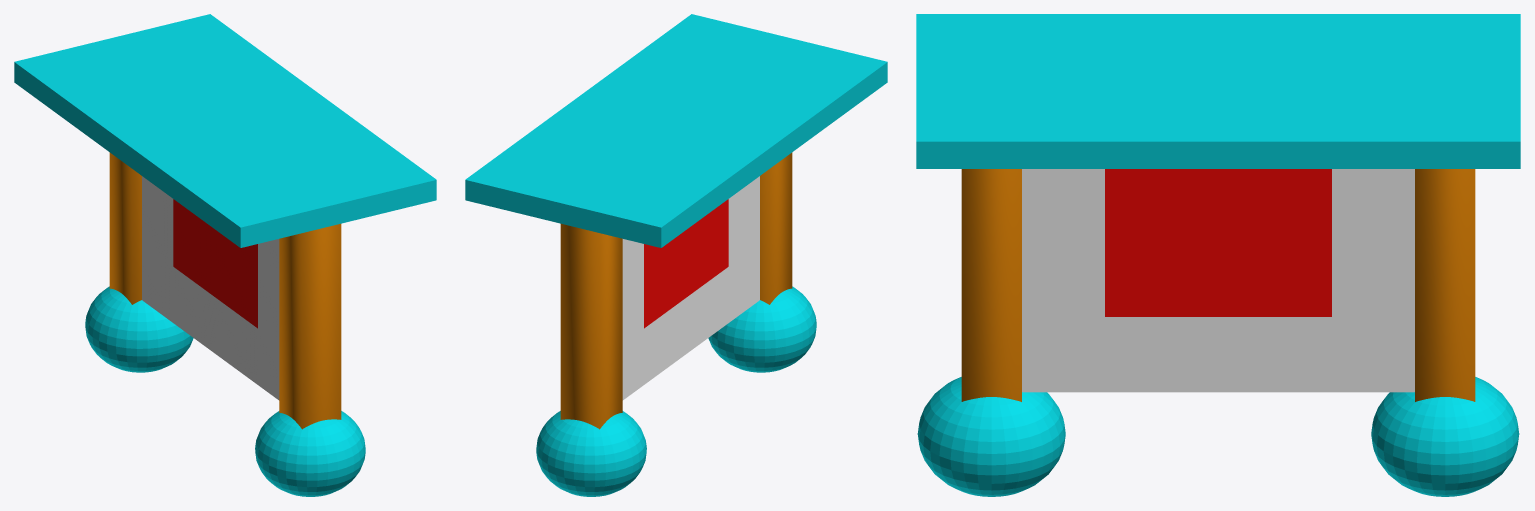
The model's file is obs-2.fbx.
3 renders of one model, left to right at view 1: azimuth 30°, elevation 25°; view 2: azimuth 150°, elevation 25°; view 3: azimuth 270°, elevation 25°, orthographic. The views are drawn at different scales.
Visible parts, largest first — view 1: Cube, bo, Cube.002, Sphere R, Sphere l, Cube.001; view 2: Cube, bo, Cube.001, Sphere l, Sphere R, Cube.002; view 3: Cube, bo, Cube.001, Cube.002, Sphere l, Sphere R.
Part boxes in pixels (box(x1,y1,x2,y2)): Cube: box(14, 14, 436, 247); bo: box(142, 176, 279, 400); Cube.002: box(279, 223, 341, 429); Sphere R: box(255, 411, 365, 496); Sphere l: box(85, 286, 193, 372); Cube.001: box(109, 152, 141, 304); Cube: box(465, 14, 887, 247); bo: box(622, 176, 759, 400); Cube.001: box(560, 223, 622, 429); Sphere l: box(536, 411, 646, 496); Sphere R: box(708, 286, 816, 372); Cube.002: box(760, 152, 792, 304); Cube: box(916, 14, 1520, 168); bo: box(1022, 169, 1414, 392); Cube.001: box(1415, 169, 1475, 401); Cube.002: box(961, 169, 1021, 401); Sphere l: box(1371, 377, 1519, 496); Sphere R: box(917, 377, 1065, 496).
Size of what is drawn, in the model's own units: 200 by 300 by 400.
